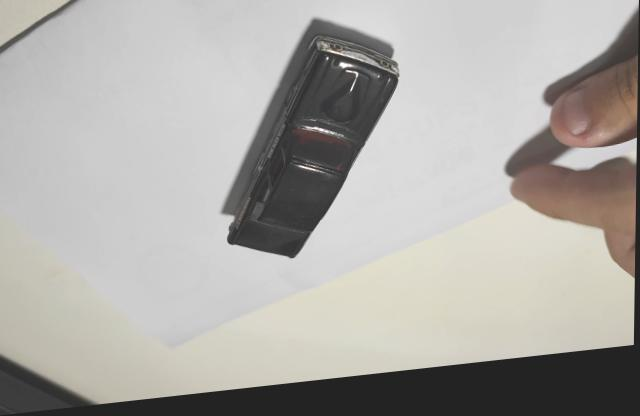01_FORD: (221, 42, 401, 264)
